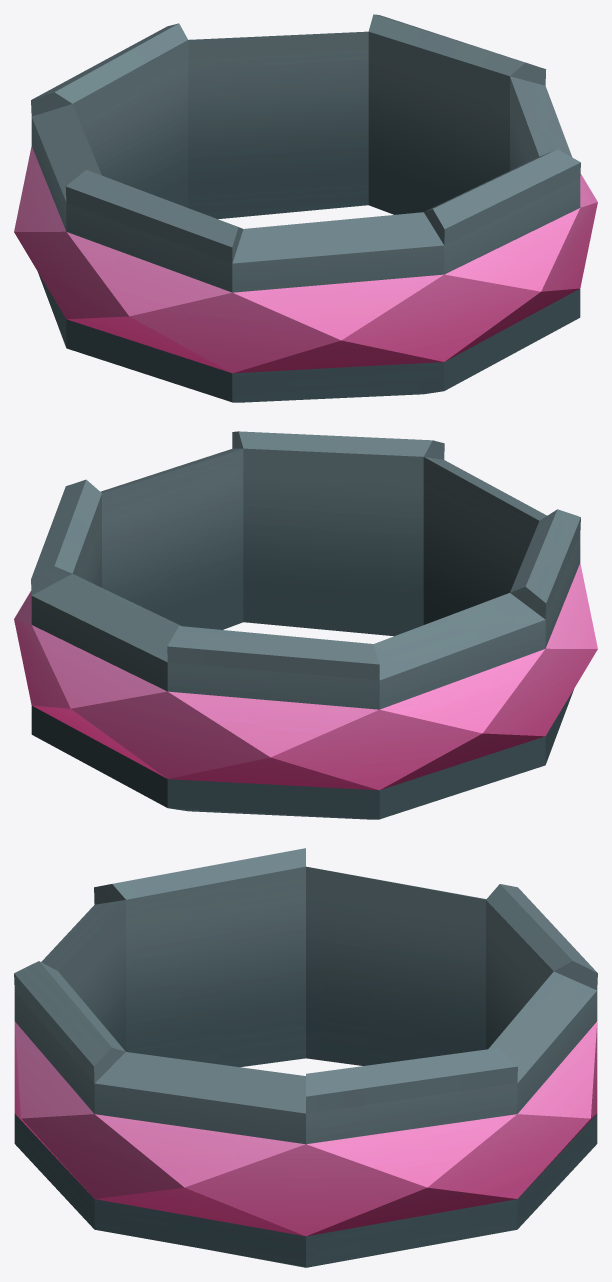
File: fbx-shield-pick-up.fbx
3 views of the same model, one above another, from view 1: azimuth 30°, elevation 25°; view 2: azimuth 150°, elevation 25°; view 3: azimuth 270°, elevation 25° (orthographic). The views are drawn at different scales.
Visible parts, largest first — view 1: fbx-shield-pick-up; view 2: fbx-shield-pick-up; view 3: fbx-shield-pick-up.
Part boxes in pixels (box(x1,y1,x2,y2)): fbx-shield-pick-up: box(14, 14, 597, 402); fbx-shield-pick-up: box(14, 431, 597, 819); fbx-shield-pick-up: box(14, 848, 597, 1267).
Bounding box in the file's own units: 87.58 × 33.45 × 87.58.
